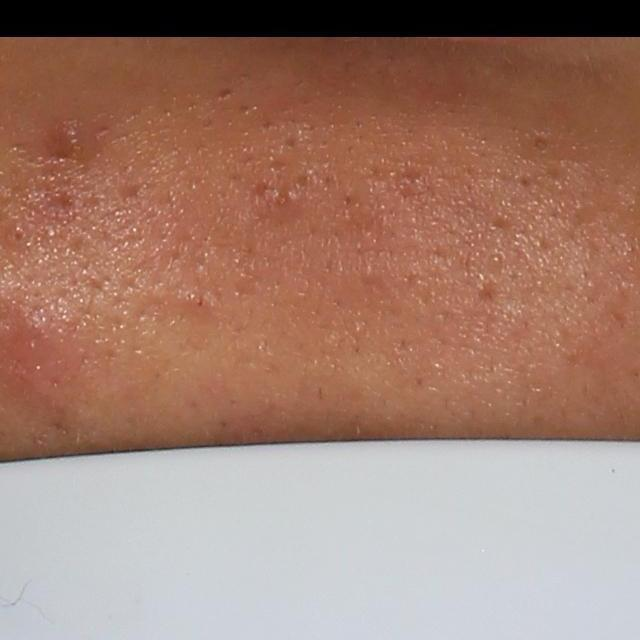atrophic_scar: (118, 178, 147, 211), (398, 159, 430, 185), (474, 278, 503, 306), (66, 233, 94, 261), (487, 211, 513, 237), (267, 155, 290, 175), (516, 170, 536, 189), (216, 87, 234, 102)
comedo: (532, 129, 553, 152), (6, 226, 27, 248)
papule: (166, 284, 224, 323), (52, 117, 88, 158)
